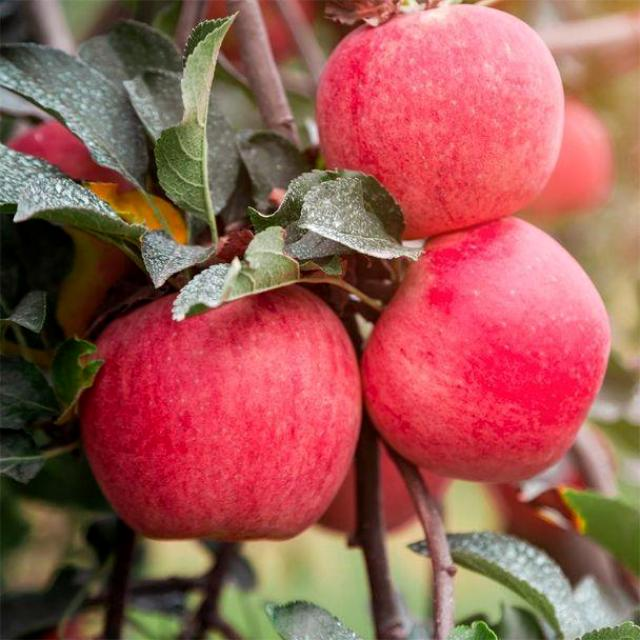HEALTHY: (61, 262, 373, 552), (336, 228, 630, 489), (319, 3, 596, 219)
